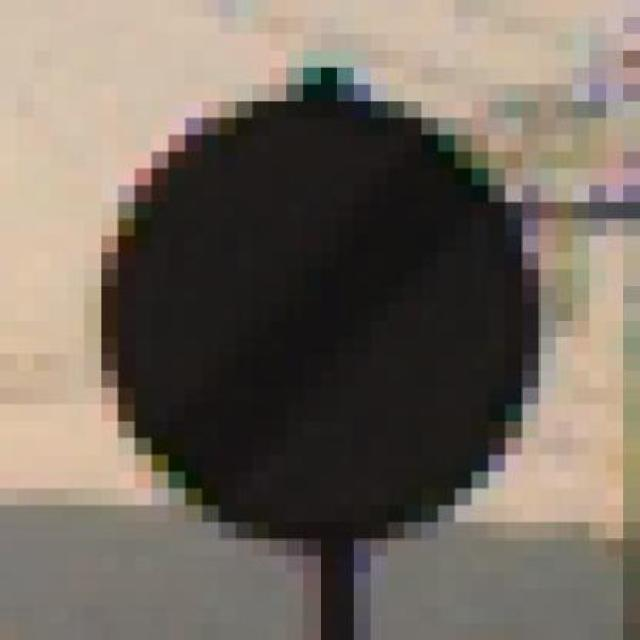End of all speed and passing limits: (84, 67, 556, 539)
